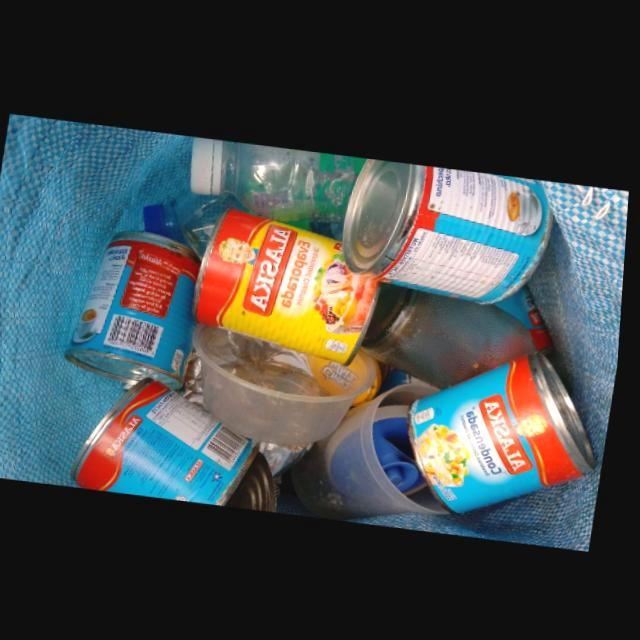aluminum: (345, 154, 555, 300), (413, 349, 601, 510), (196, 207, 384, 361), (77, 375, 265, 504), (69, 229, 203, 389)
glass_bottle: (363, 279, 544, 386)
plastic_bottle: (193, 134, 368, 219)
plastic_container: (290, 370, 459, 517), (197, 320, 380, 445)
